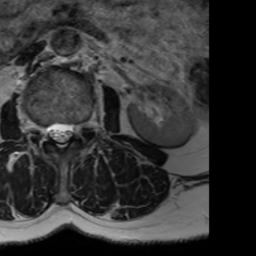CCS_normal: (56, 113, 66, 154)
LFS_normal: (76, 112, 88, 140)
LLS_normal: (66, 113, 76, 145)
RFS_normal: (36, 115, 48, 149)
RLS_normal: (46, 115, 56, 148)
